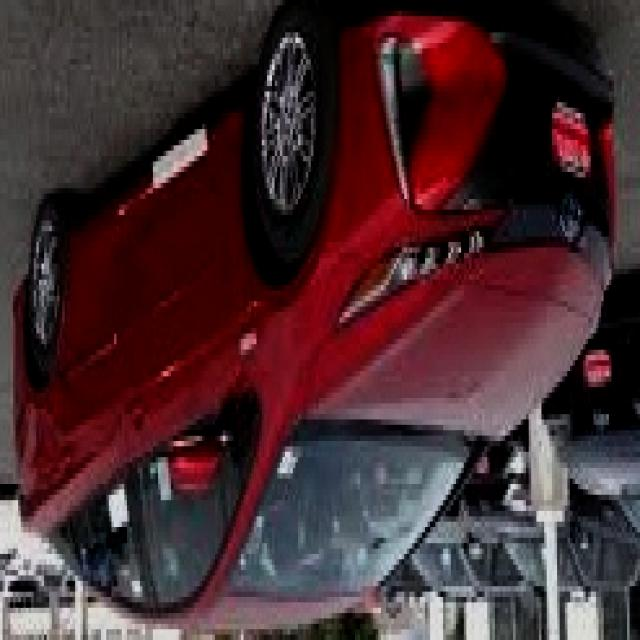maroon: (13, 21, 608, 634)
